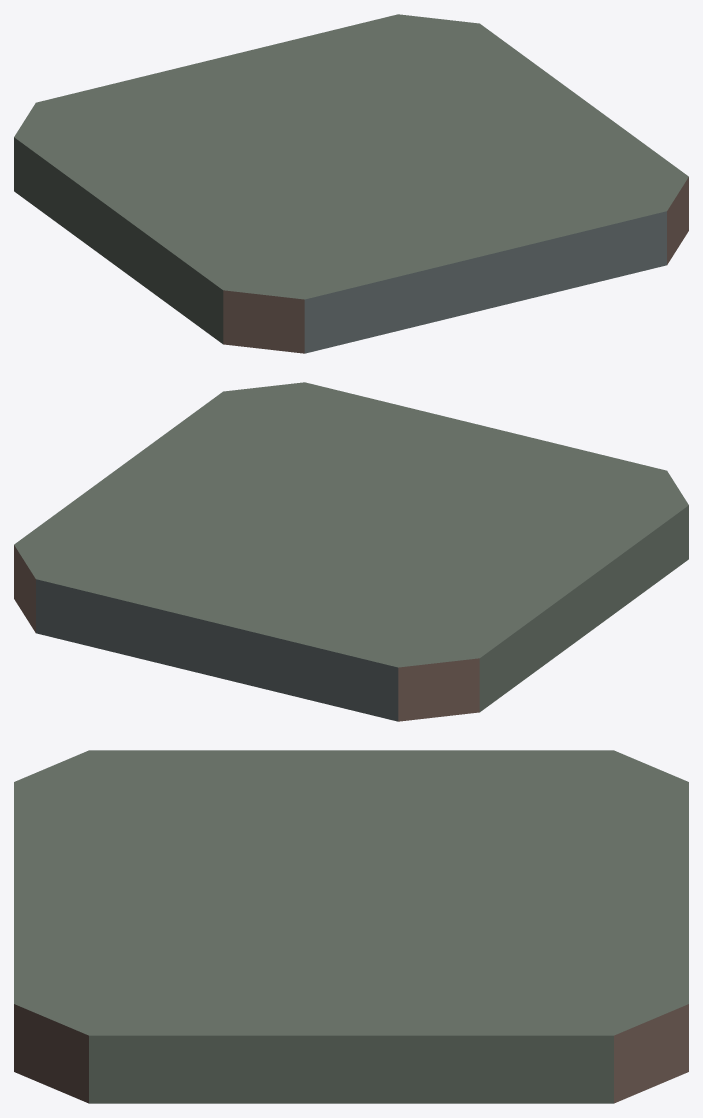
File: Floor_hole_beveled_cover_hidden.fbx
3 renders of one model, top to bottom at view 1: azimuth 30°, elevation 25°; view 2: azimuth 150°, elevation 25°; view 3: azimuth 270°, elevation 25°, orthographic. The views are drawn at different scales.
Visible parts, largest first — view 1: Cube; view 2: Cube; view 3: Cube.
Boxes of the visible parts, bbox=[...] form: Cube: bbox=[14, 14, 688, 353]; Cube: bbox=[14, 382, 688, 721]; Cube: bbox=[14, 750, 688, 1103].
Size of the model in its own units: 90 by 10 by 90.
